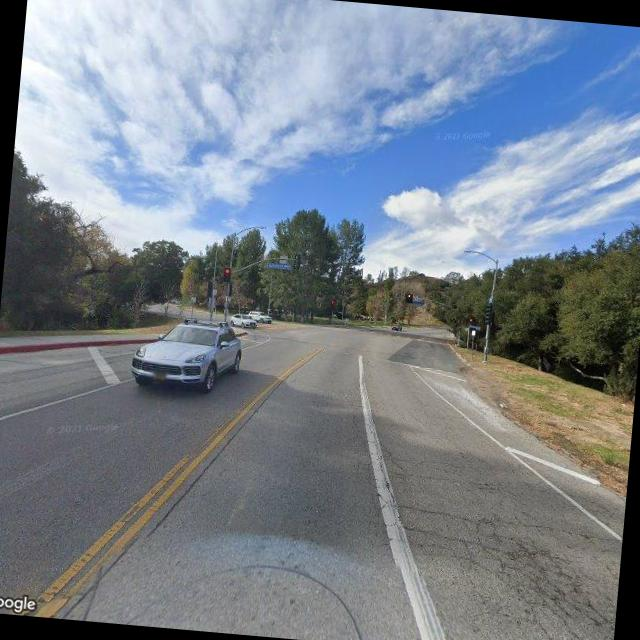crack: (379, 459, 626, 640)
